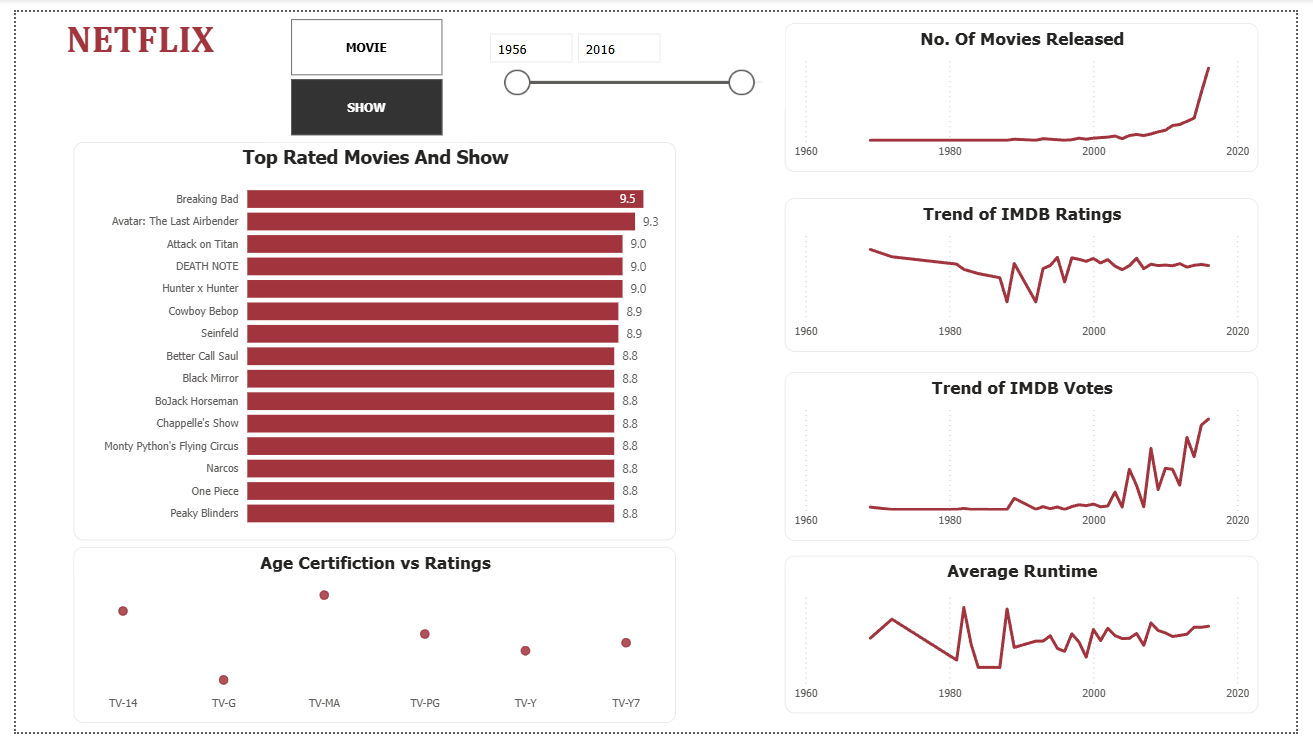

This screenshot's page, from the dashboard's own definition file:
{"tool":"powerbi","page":{"name":"Page 1","canvas":[1280,720],"ordinal":0},"visuals":[{"type":"clusteredBarChart","title":"Top Rated Movies And Show","fields":{"Y":["Avg(Netflix TV Shows and Movies.imdb_score)"],"Category":["Netflix TV Shows and Movies.title"]},"box":[57.5,130,602.5,398.8],"z":0},{"type":"slicer","fields":{"Values":["Netflix TV Shows and Movies.type"]},"box":[248.8,0,201.2,130],"z":1000},{"type":"scatterChart","title":"Age Certifiction vs Ratings","fields":{"X":["Netflix TV Shows and Movies.age_certification"],"Y":["Avg(Netflix TV Shows and Movies.imdb_score)"]},"box":[57.5,535,602.5,176.2],"z":2000},{"type":"lineChart","title":"Trend of IMDB Votes","fields":{"Category":["Netflix TV Shows and Movies.release_year"],"Y":["Sum(Netflix TV Shows and Movies.imdb_votes)"]},"box":[768.8,360,473.8,168.8],"z":3000},{"type":"lineChart","title":"Trend of IMDB Ratings","fields":{"Category":["Netflix TV Shows and Movies.release_year"],"Y":["Avg(Netflix TV Shows and Movies.imdb_score)"]},"box":[768.8,186.2,473.8,153.8],"z":4000},{"type":"lineChart","title":"Average Runtime","fields":{"Category":["Netflix TV Shows and Movies.release_year"],"Y":["Avg(Netflix TV Shows and Movies.runtime)"]},"box":[768.8,543.8,473.8,157.5],"z":5000},{"type":"lineChart","title":"No. Of Movies Released","fields":{"Category":["Netflix TV Shows and Movies.release_year"],"Y":["CountNonNull(Netflix TV Shows and Movies.id)"]},"box":[768.8,11.2,473.8,148.8],"z":6000},{"type":"textbox","box":[0,0,248.8,53.8],"z":7000},{"type":"slicer","fields":{"Values":["Netflix TV Shows and Movies.release_year"]},"box":[461.2,11.2,307.5,85],"z":8000}]}

Visuals, with their boxes in screenshot pixels (x1, y1, x2, y2), scaled from the page's 1280x720 canvas onto the 1313x741 screenshot:
"Top Rated Movies And Show" clusteredBarChart: l=59, t=134, r=677, b=544
slicer - Netflix TV Shows and Movies.type: l=255, t=0, r=462, b=134
"Age Certifiction vs Ratings" scatterChart: l=59, t=551, r=677, b=732
"Trend of IMDB Votes" lineChart: l=789, t=370, r=1275, b=544
"Trend of IMDB Ratings" lineChart: l=789, t=192, r=1275, b=350
"Average Runtime" lineChart: l=789, t=560, r=1275, b=722
"No. Of Movies Released" lineChart: l=789, t=12, r=1275, b=165
textbox: l=0, t=0, r=255, b=55
slicer - Netflix TV Shows and Movies.release_year: l=473, t=12, r=789, b=99
